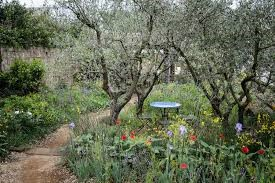tree: (198, 78, 245, 128), (101, 70, 136, 126), (229, 80, 263, 131), (134, 67, 162, 116)
